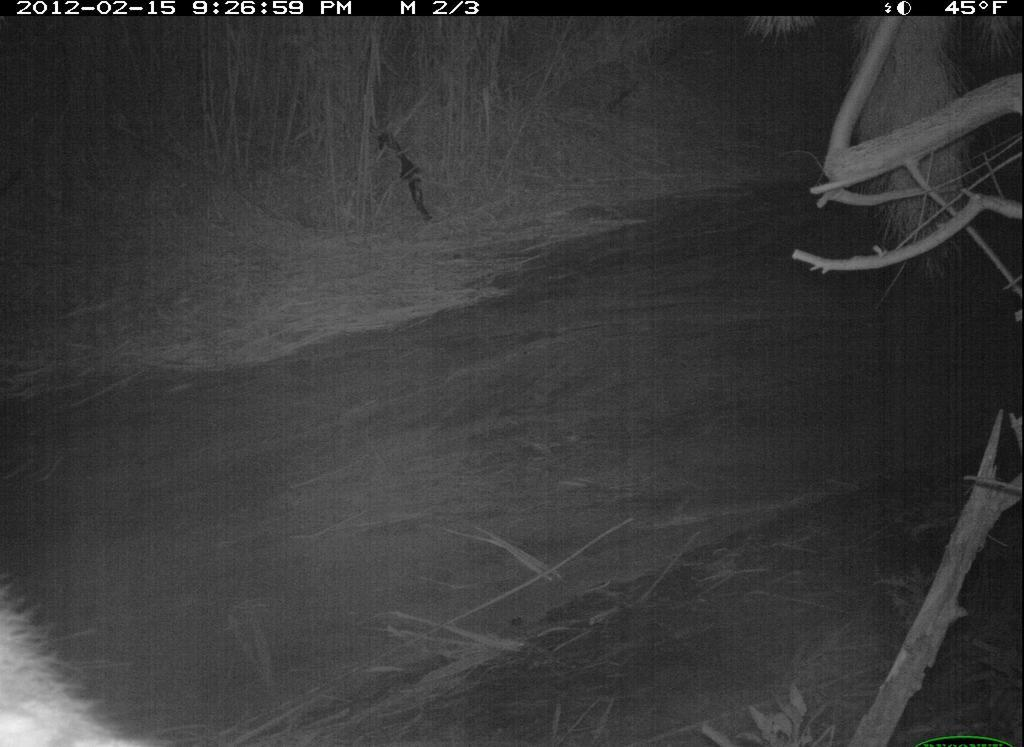raccoon: (4, 598, 121, 721)
